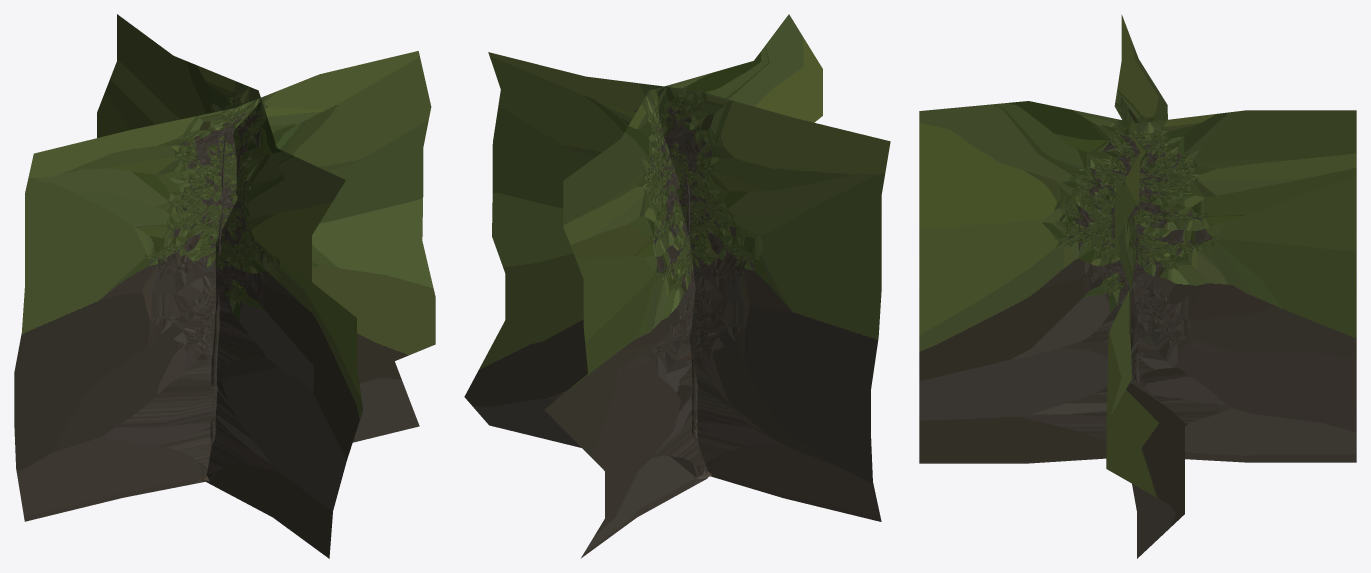
The model's file is fir_tree_01-c-lod2.glb.
3 views of the same model, side by side, from view 1: azimuth 30°, elevation 25°; view 2: azimuth 150°, elevation 25°; view 3: azimuth 270°, elevation 25° (orthographic). The views are drawn at different scales.
Parts seen in each view (by area): view 1: fir_tree_01.c.lod2.foliage, fir_tree_01.c.lod2.bark; view 2: fir_tree_01.c.lod2.foliage, fir_tree_01.c.lod2.bark; view 3: fir_tree_01.c.lod2.foliage.
Boxes of the visible parts, box(x1,y1,x2,y2) form: fir_tree_01.c.lod2.foliage: box(14, 14, 435, 558); fir_tree_01.c.lod2.bark: box(203, 132, 226, 480); fir_tree_01.c.lod2.foliage: box(464, 14, 890, 558); fir_tree_01.c.lod2.bark: box(686, 179, 711, 478); fir_tree_01.c.lod2.foliage: box(919, 14, 1356, 558).
Bounding box in the file's own units: 16.01 × 14.55 × 16.01.
Materials: 2 (2 with a texture image).
